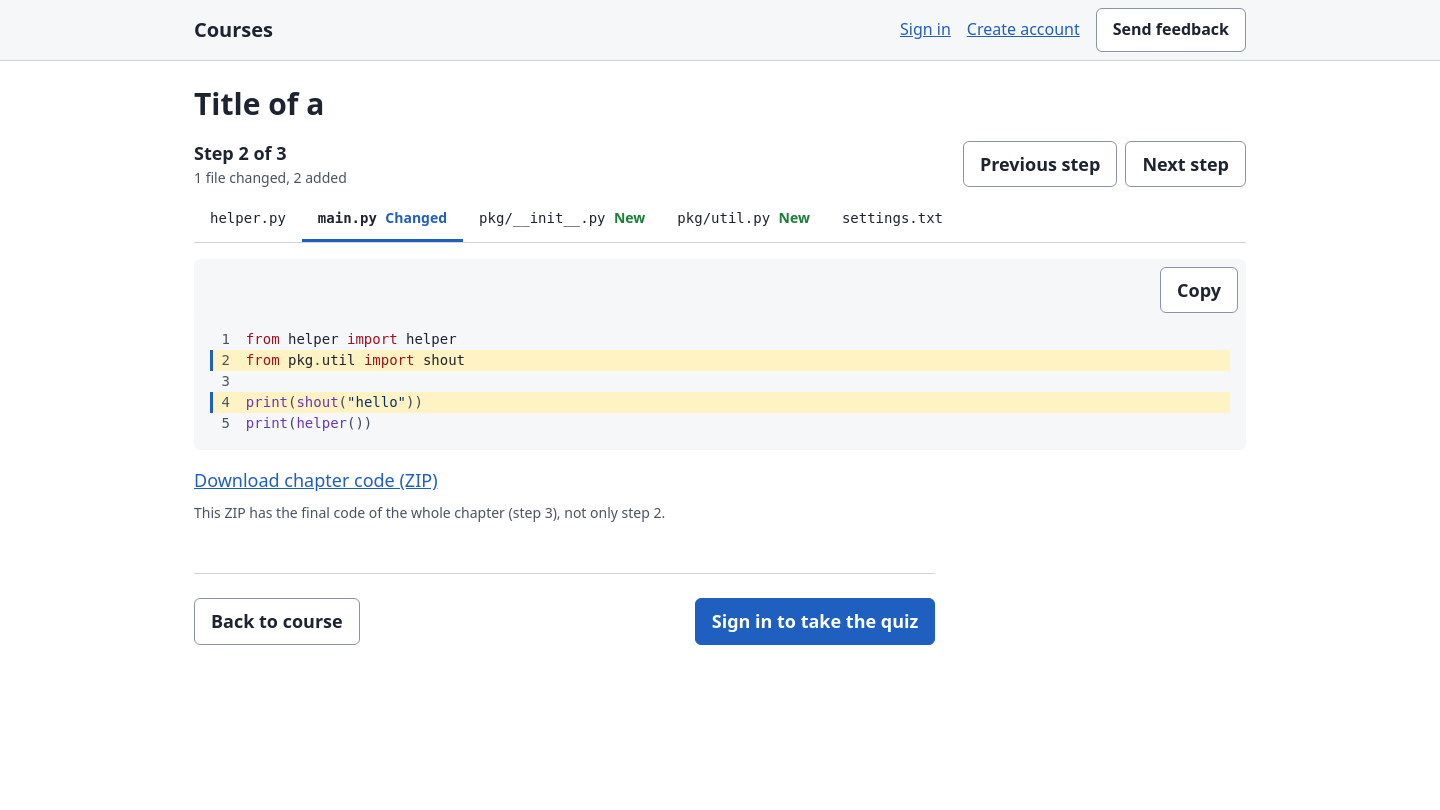
Test: code steps › moves between steps without a new request for the lesson or the code, and without remounting the page
This screenshot has width=1440, height=810.
Expected: the element named "Files in step 2" is shown, [194,198,1246,243]
Click the button "Next step" at (1186, 164), box [1125,141,1246,188]
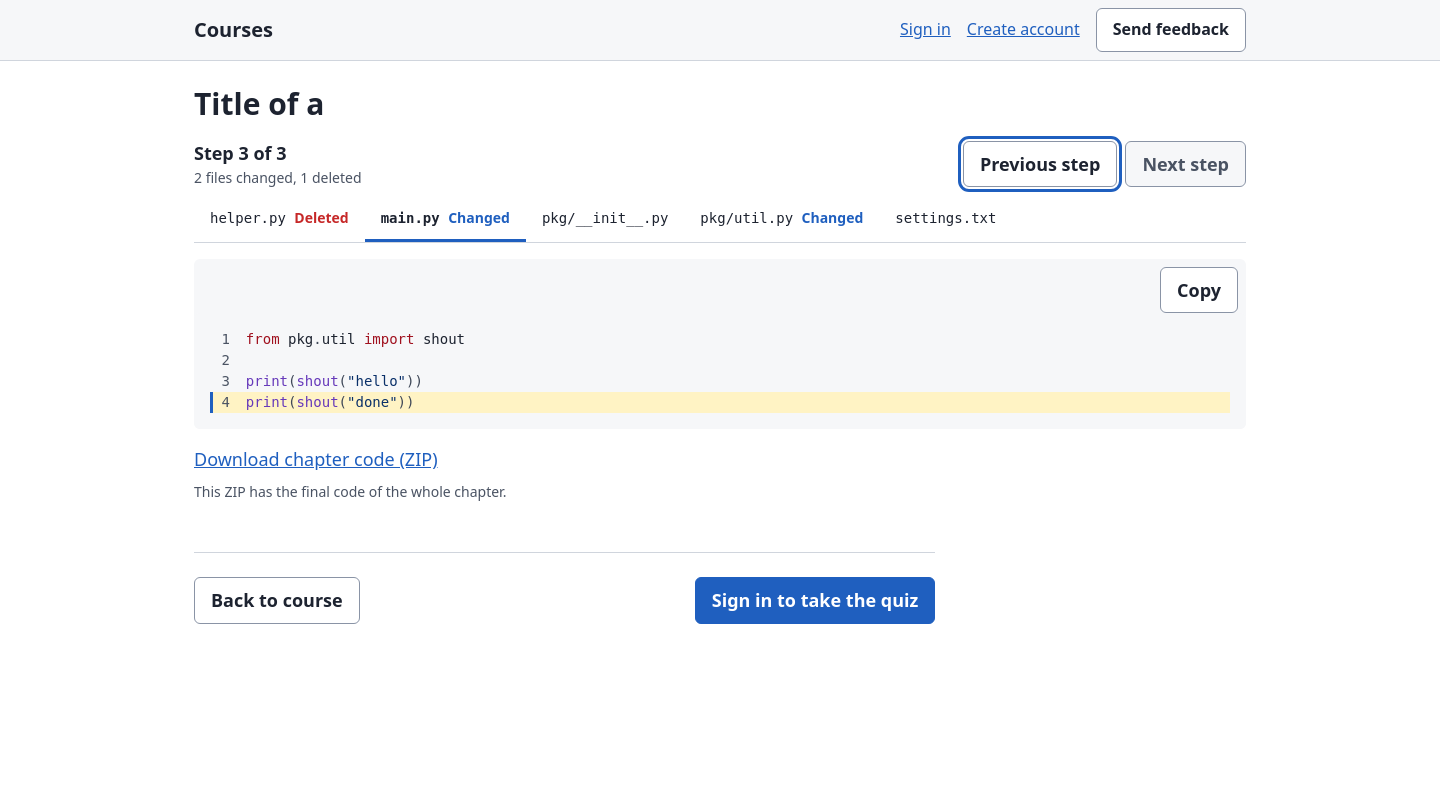
Result: the element named "Files in step 3" is shown at [194,198,1246,243]
Click the button "Previous step" at (1040, 164), box [963,141,1117,188]
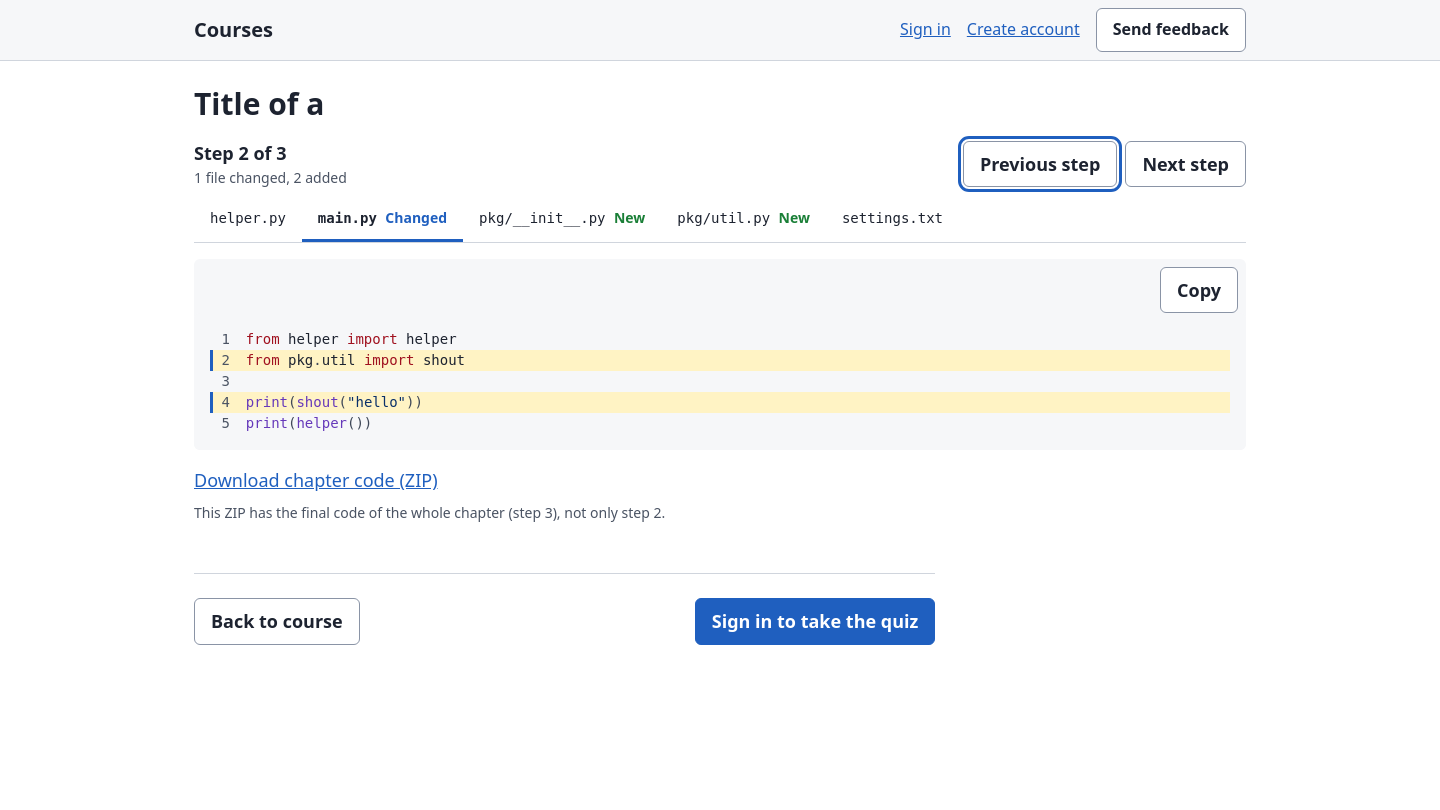
Click the button "Previous step" at (1040, 164), box [963,141,1117,188]
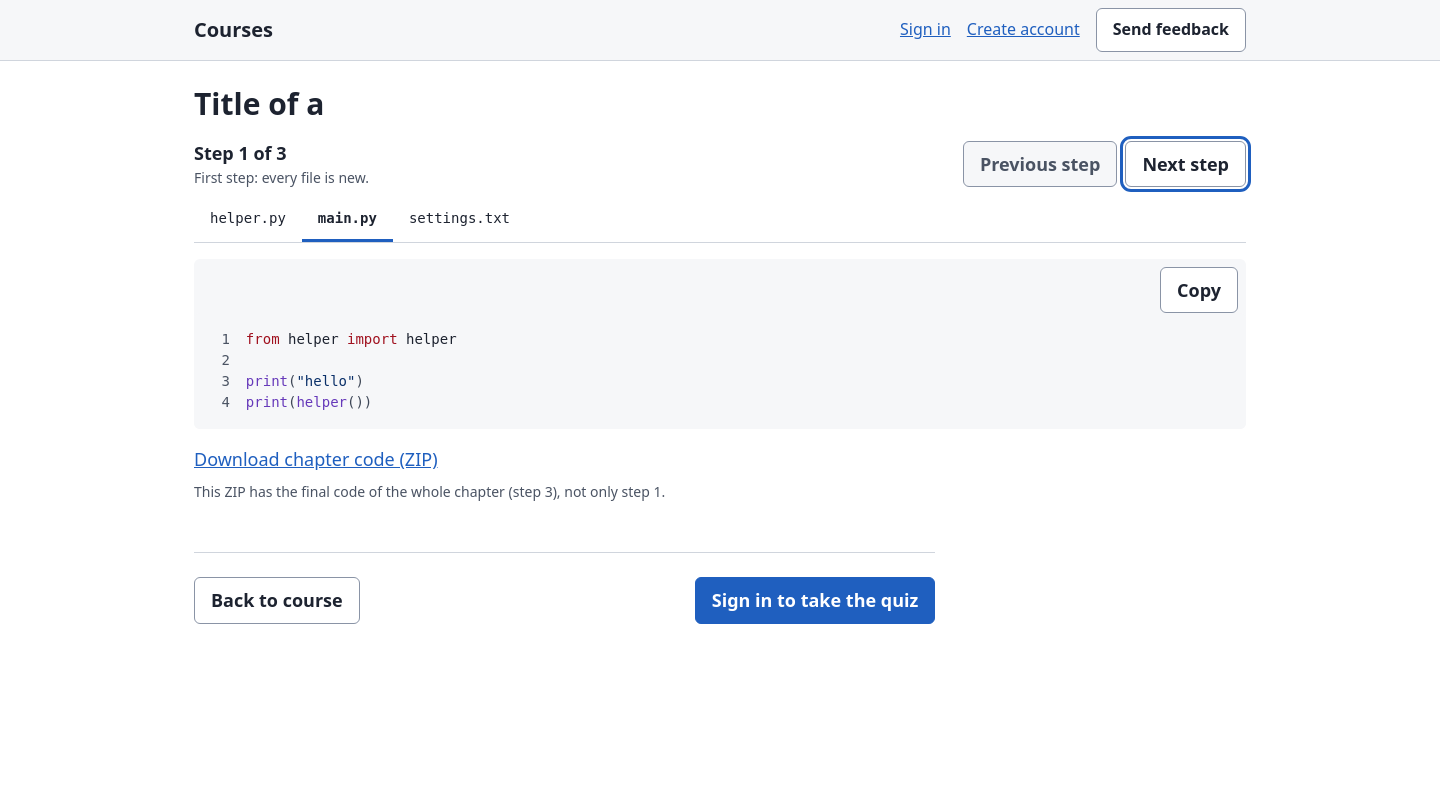
Result: the element named "Files in step 1" is shown at [194,198,1246,243]
